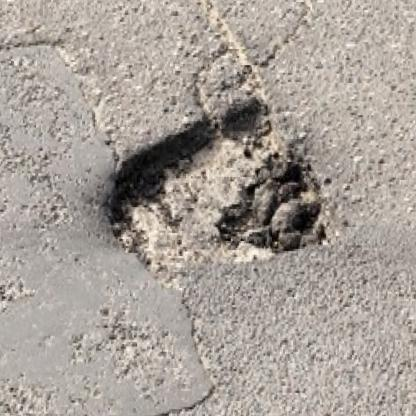pothole: (99, 87, 337, 286)
